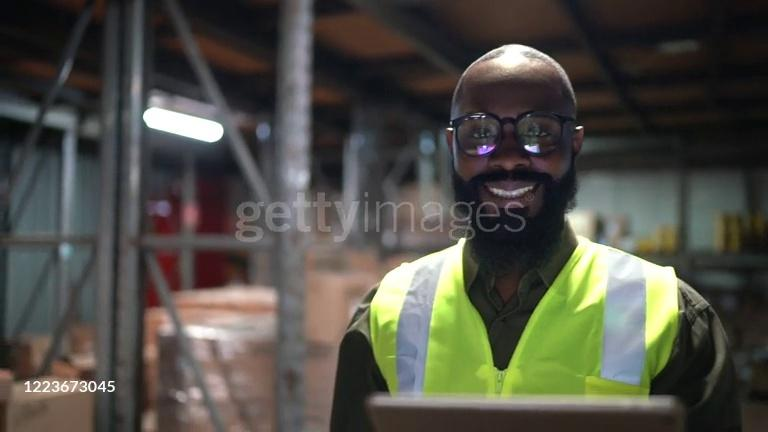person: (326, 42, 742, 432)
